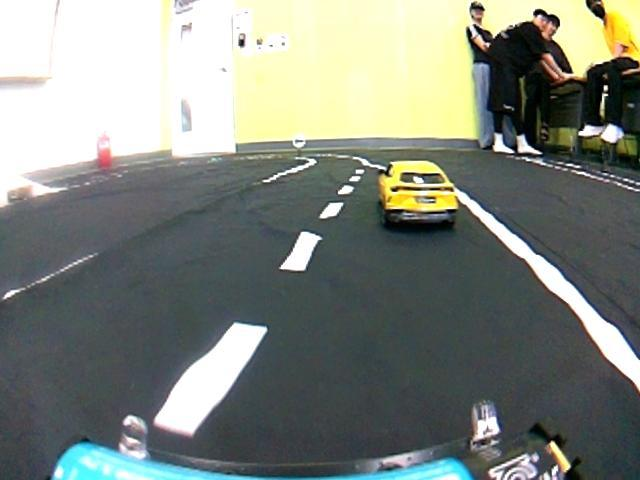car: (378, 157, 460, 225)
straight: (5, 223, 640, 480)
